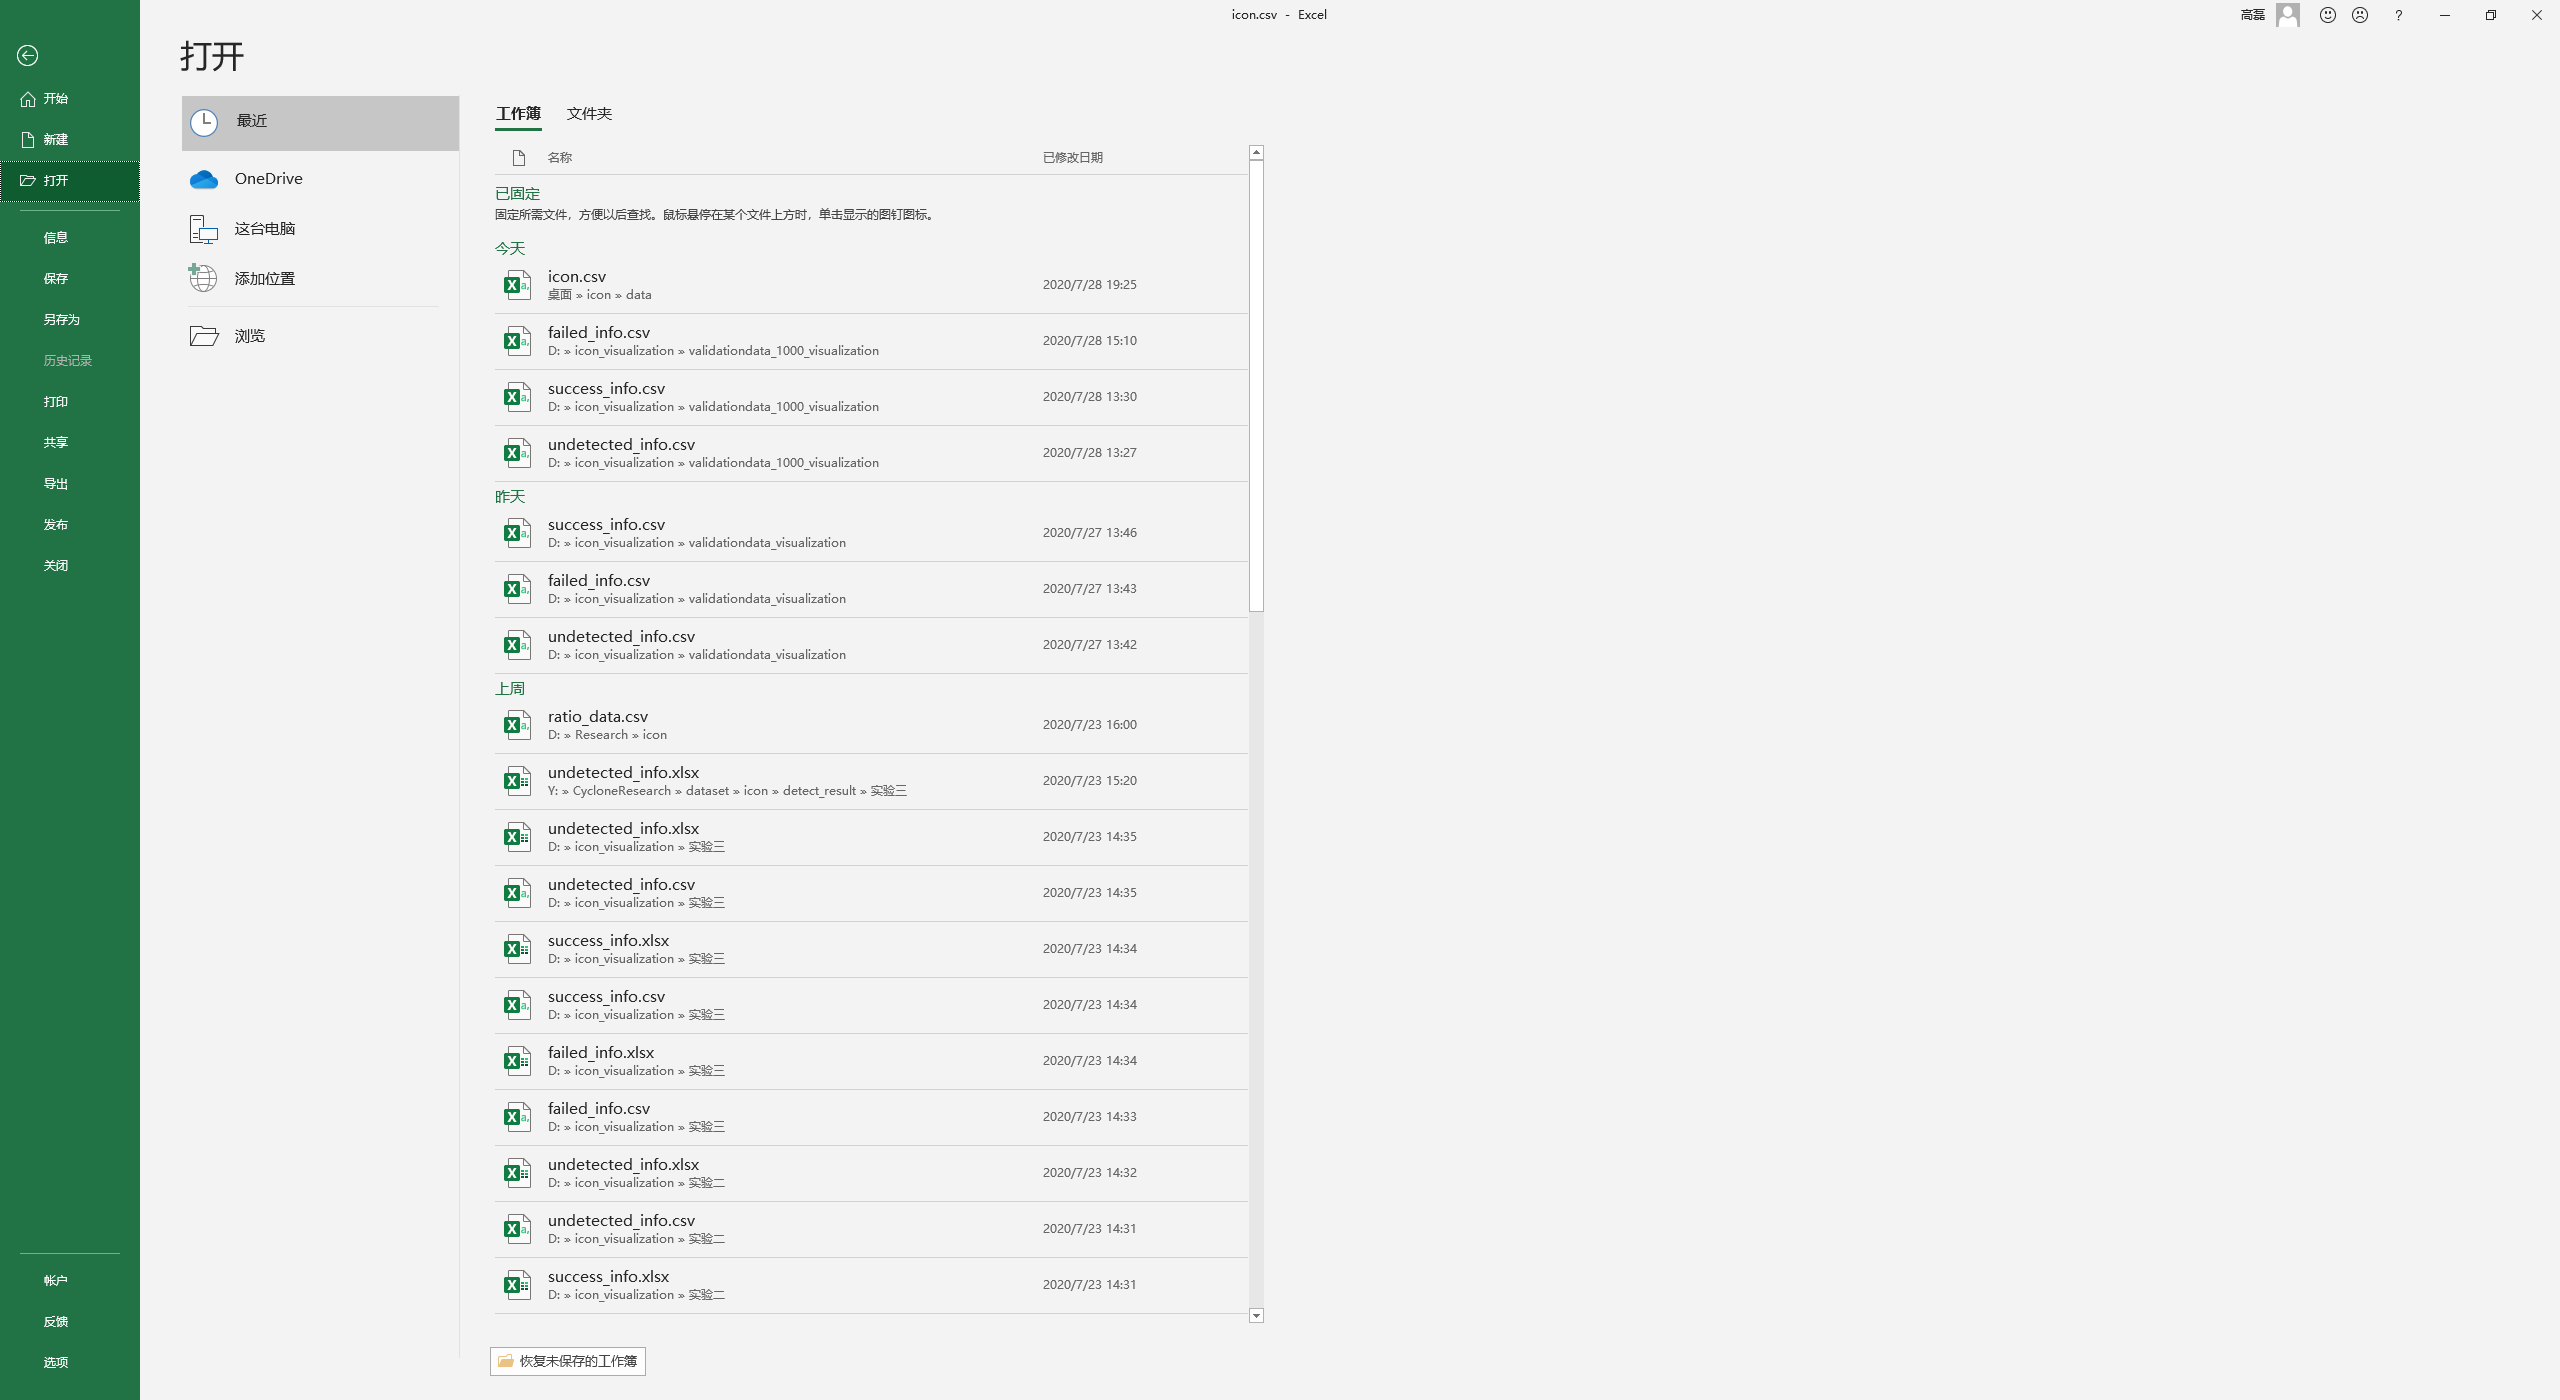character: (496, 209, 940, 224), (548, 400, 886, 416), (548, 786, 912, 800), (552, 457, 884, 471), (548, 347, 888, 359), (552, 536, 846, 548), (546, 595, 852, 605), (552, 648, 853, 659), (548, 952, 734, 967), (546, 1119, 729, 1134), (174, 40, 247, 72), (545, 767, 710, 781), (548, 1159, 714, 1172), (548, 897, 731, 909), (546, 1290, 729, 1302), (548, 1234, 729, 1247), (548, 841, 726, 853), (545, 440, 707, 452), (546, 1179, 724, 1190), (1041, 272, 1138, 291), (236, 210, 298, 240), (548, 879, 696, 891), (1041, 1222, 1141, 1240), (546, 286, 657, 302), (546, 381, 671, 395), (543, 934, 684, 947), (517, 1355, 638, 1369), (546, 324, 653, 340), (546, 631, 702, 641), (546, 1217, 702, 1228), (236, 167, 307, 190), (1229, 7, 1331, 22), (546, 1009, 729, 1017), (548, 1067, 729, 1076), (1041, 1109, 1140, 1124), (546, 1102, 657, 1116), (548, 729, 671, 741), (1040, 886, 1146, 900), (1046, 524, 1140, 540), (1038, 1278, 1141, 1291), (546, 574, 662, 586), (1041, 640, 1141, 653), (1040, 941, 1138, 955), (546, 1047, 659, 1059), (546, 991, 676, 1002), (1043, 331, 1140, 345), (545, 710, 652, 722), (1038, 447, 1141, 459), (1041, 583, 1143, 595), (548, 521, 665, 531), (1040, 772, 1138, 784), (1041, 1166, 1140, 1178), (1043, 1000, 1140, 1012), (546, 828, 712, 834), (1043, 390, 1136, 402), (1041, 152, 1112, 167), (543, 267, 621, 281), (1038, 831, 1140, 841), (231, 269, 298, 284), (1043, 1055, 1143, 1066), (1031, 721, 1138, 729), (545, 1274, 676, 1281), (45, 350, 93, 367), (498, 103, 541, 122), (498, 184, 545, 202), (240, 110, 276, 131), (231, 324, 264, 345), (41, 129, 67, 155), (38, 229, 74, 247), (564, 107, 615, 119), (41, 1314, 76, 1331), (41, 91, 72, 110), (34, 434, 71, 450), (491, 490, 529, 503), (496, 679, 529, 695), (548, 150, 579, 166), (496, 240, 528, 255), (45, 310, 79, 324), (2241, 5, 2269, 22), (41, 171, 71, 186), (41, 559, 72, 572), (40, 1272, 74, 1284), (45, 516, 71, 531), (43, 395, 71, 409), (47, 479, 71, 495), (47, 272, 69, 284), (43, 1359, 71, 1367)
icon: (184, 260, 219, 295), (184, 105, 219, 140), (500, 764, 533, 798), (500, 1155, 533, 1190), (502, 322, 533, 359), (502, 1210, 533, 1247), (502, 267, 533, 302), (502, 379, 533, 414), (502, 707, 533, 741), (502, 516, 533, 550), (502, 988, 533, 1022), (502, 1100, 533, 1134), (502, 1267, 533, 1302), (502, 572, 533, 605), (502, 436, 533, 469), (502, 821, 533, 853), (502, 876, 533, 909), (502, 933, 533, 966), (502, 1045, 533, 1078), (502, 629, 533, 660), (188, 214, 217, 245), (2274, 2, 2301, 28), (188, 322, 217, 347), (190, 169, 217, 190), (2315, 3, 2339, 24), (16, 45, 38, 66), (2350, 3, 2370, 24), (17, 129, 36, 148), (2434, 5, 2455, 22), (17, 171, 36, 188), (2389, 5, 2408, 22), (19, 90, 36, 107), (510, 148, 528, 166), (2527, 5, 2544, 22), (496, 1350, 514, 1367), (1248, 1307, 1264, 1322), (2482, 7, 2498, 21), (1250, 145, 1264, 159)
